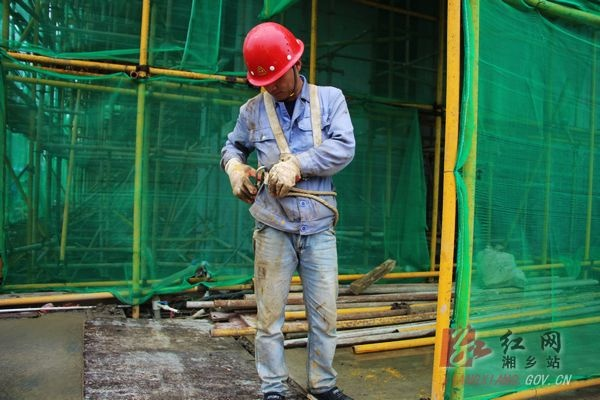red: (238, 20, 308, 100)
